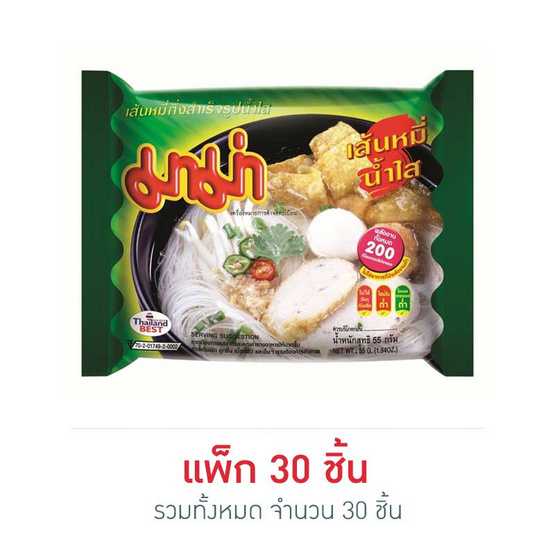Snack: (73, 59, 484, 390)
